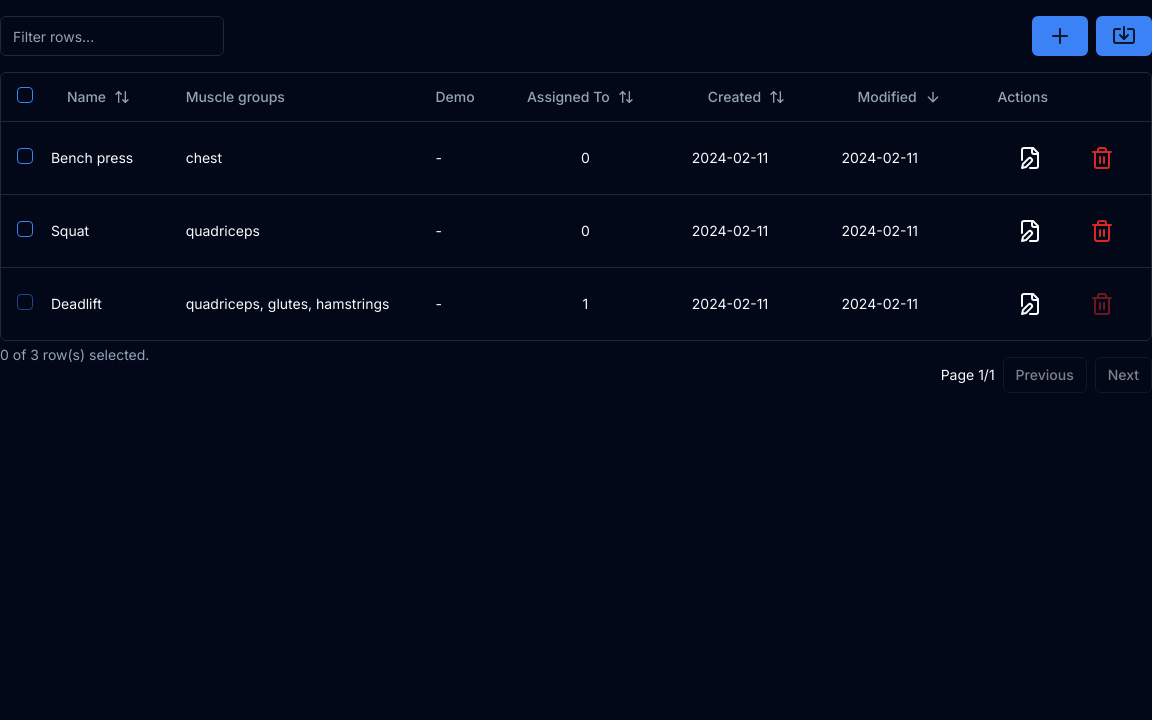
Exercise Table › opens delete confirmation dialog if delete exercise is clicked, closes dialog on cancel
The image size is (1152, 720).
Click the button named "delete exercise" in the row of "Bench press".
click(1102, 158)  # box [1074,138,1130,178]
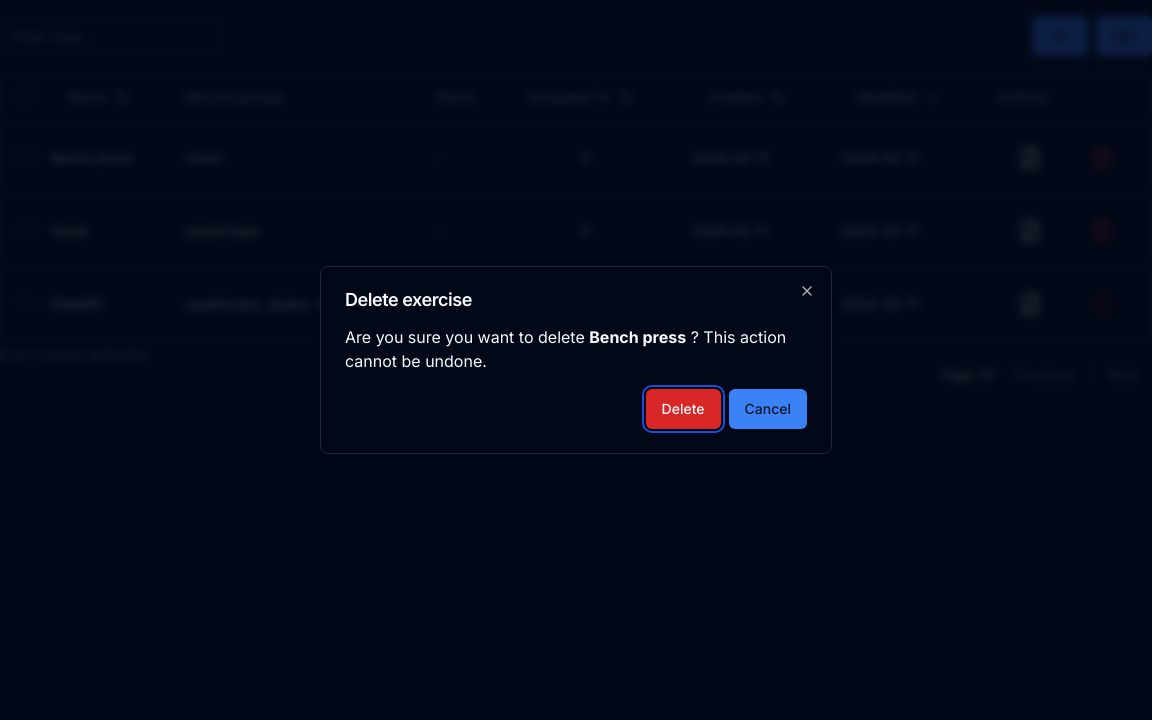
expect the dialog is shown: met, box [320,266,832,454]
expect the heading "Delete exercise" is shown: met, box [345,289,472,310]
Click the button "Cancel".
click(768, 409)  # box [728,389,807,429]
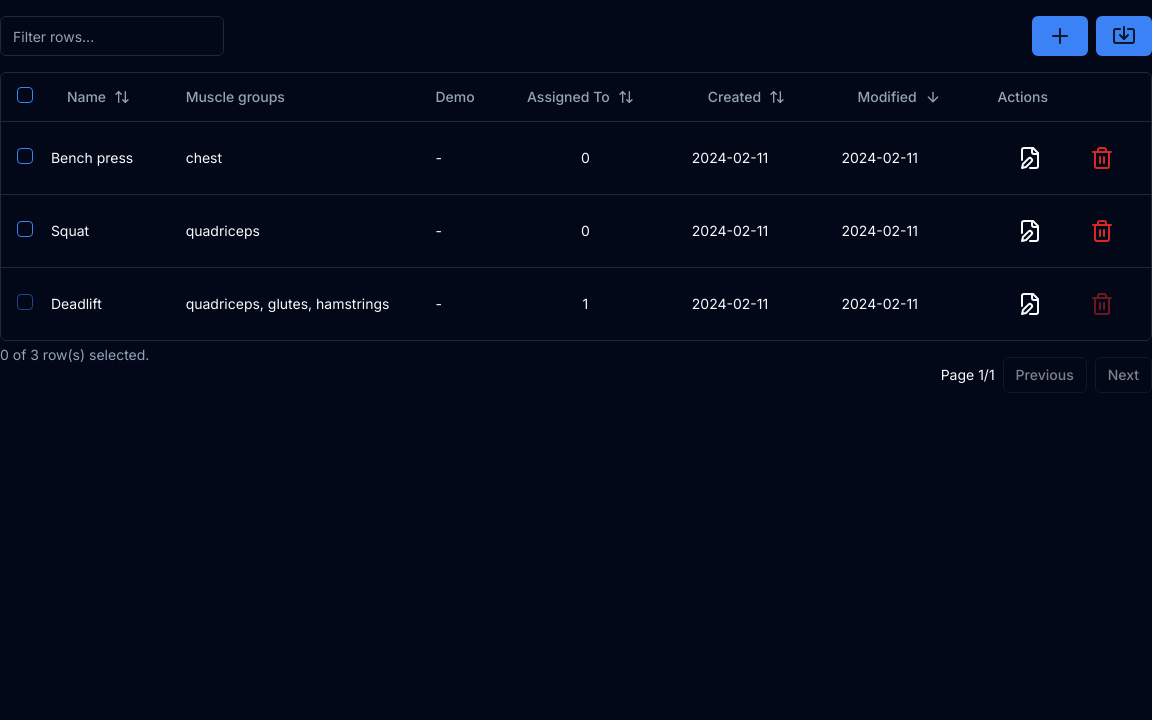
expect the dialog is gone: met
# bundle delete
Click the checkbox named "select all".
click(25, 95)  # box [17,87,33,103]
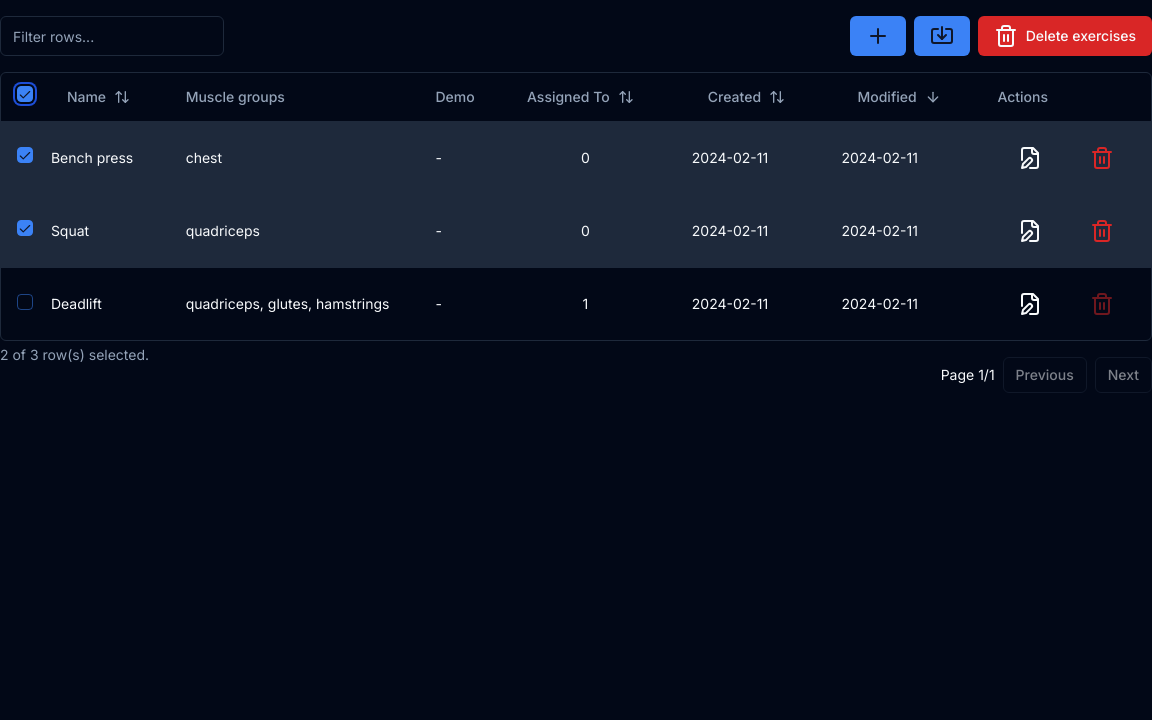
Click the button "Delete exercises".
click(1065, 36)  # box [978,16,1151,56]
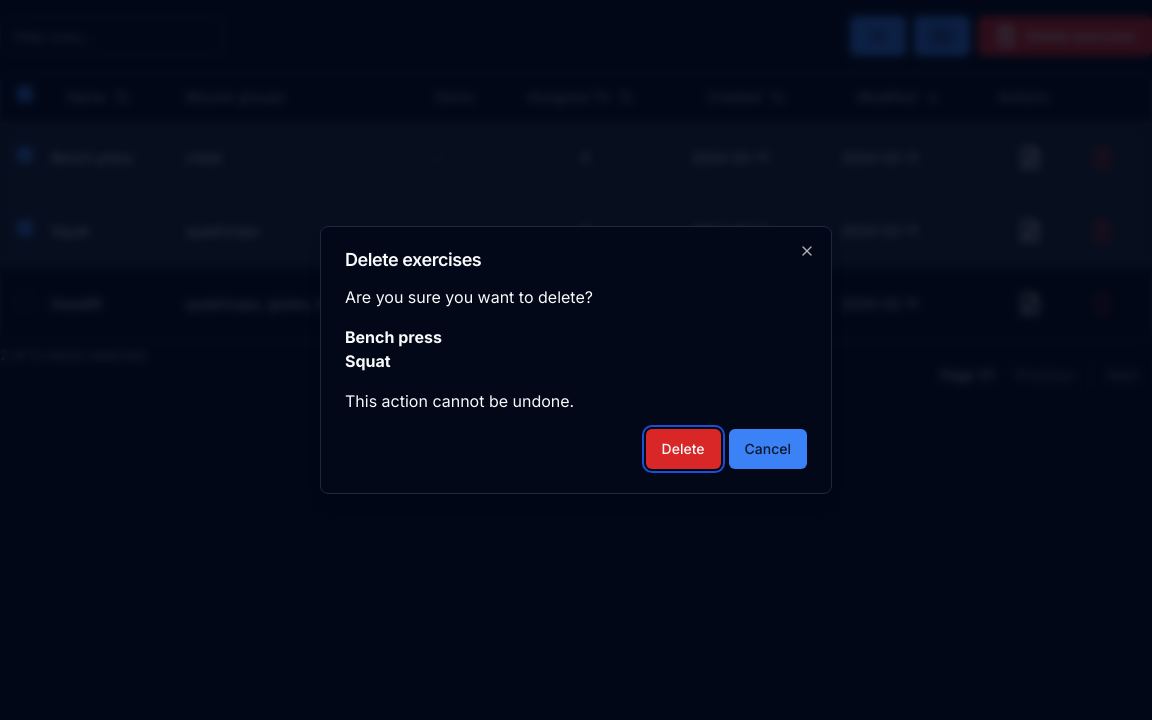
expect the dialog is shown: met, box [320,226,832,494]
expect the heading "Delete exercises" is shown: met, box [345,249,481,270]
Click the button "Cancel".
click(768, 449)  # box [728,429,807,469]
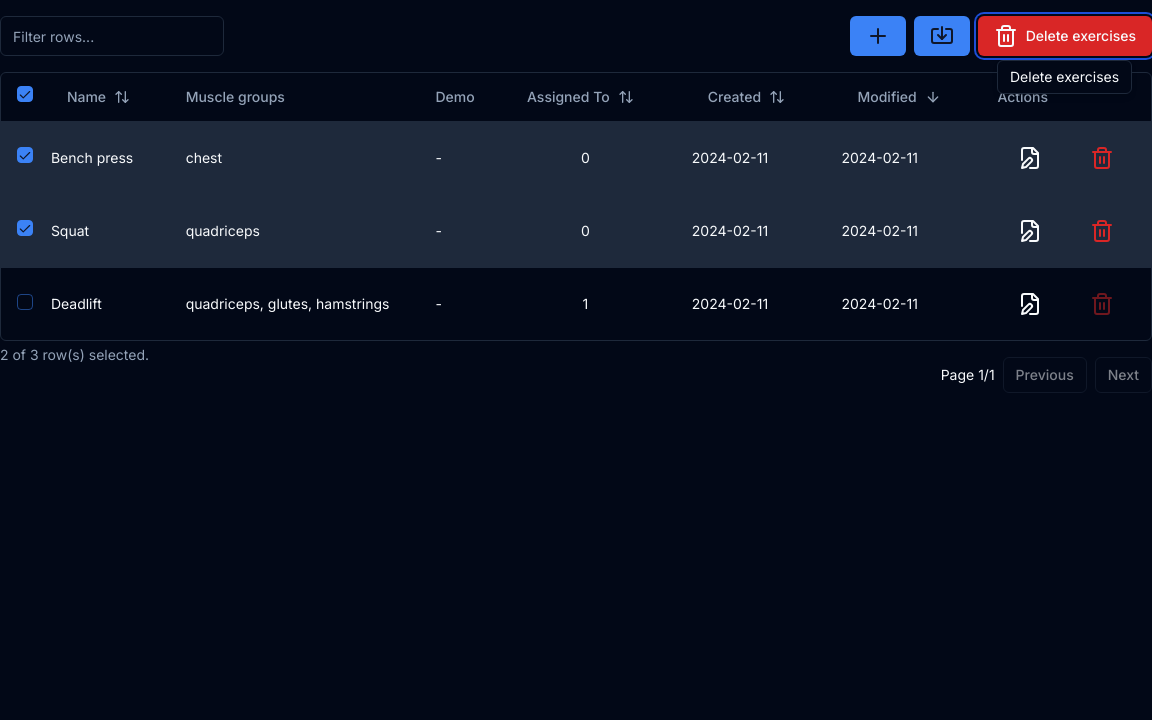
expect the dialog is gone: met
